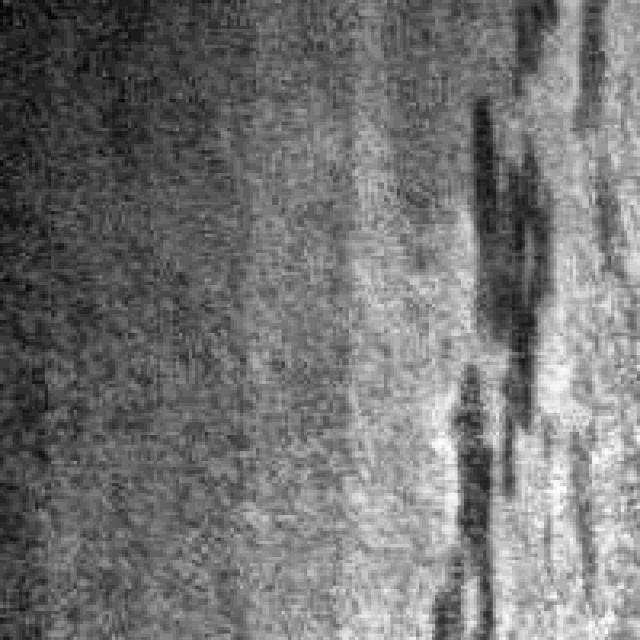Patches: (422, 6, 566, 628)
